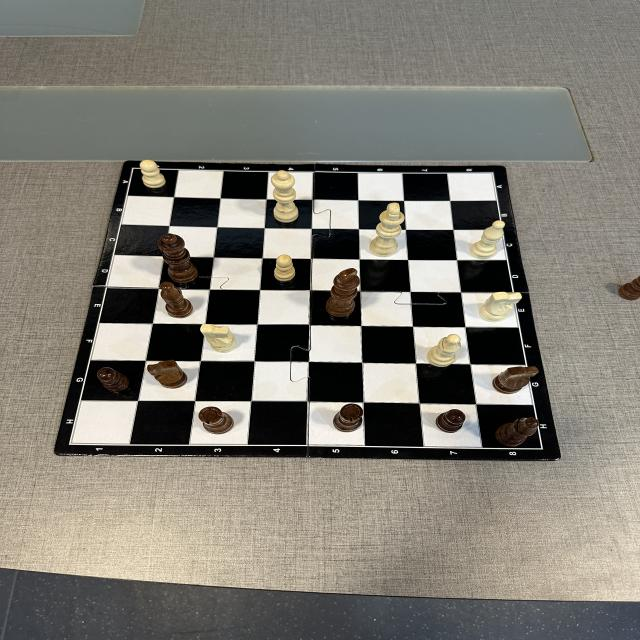Black-Bishop: (496, 417, 538, 446), (160, 282, 193, 318)
Black-King: (325, 268, 360, 317)
Black-Knight: (494, 366, 538, 394), (147, 360, 188, 388)
Black-Pawn: (97, 367, 130, 393), (436, 409, 465, 433)
Black-Queen: (158, 233, 197, 282)
Black-Rook: (198, 406, 234, 434), (333, 404, 362, 432)
White-Bishop: (470, 220, 504, 259), (428, 334, 460, 367)
White-King: (369, 202, 405, 257)
White-Knight: (479, 291, 522, 323), (200, 323, 236, 352)
White-Pawn: (140, 160, 166, 188), (275, 254, 295, 282)
White-Queen: (270, 170, 300, 223)
